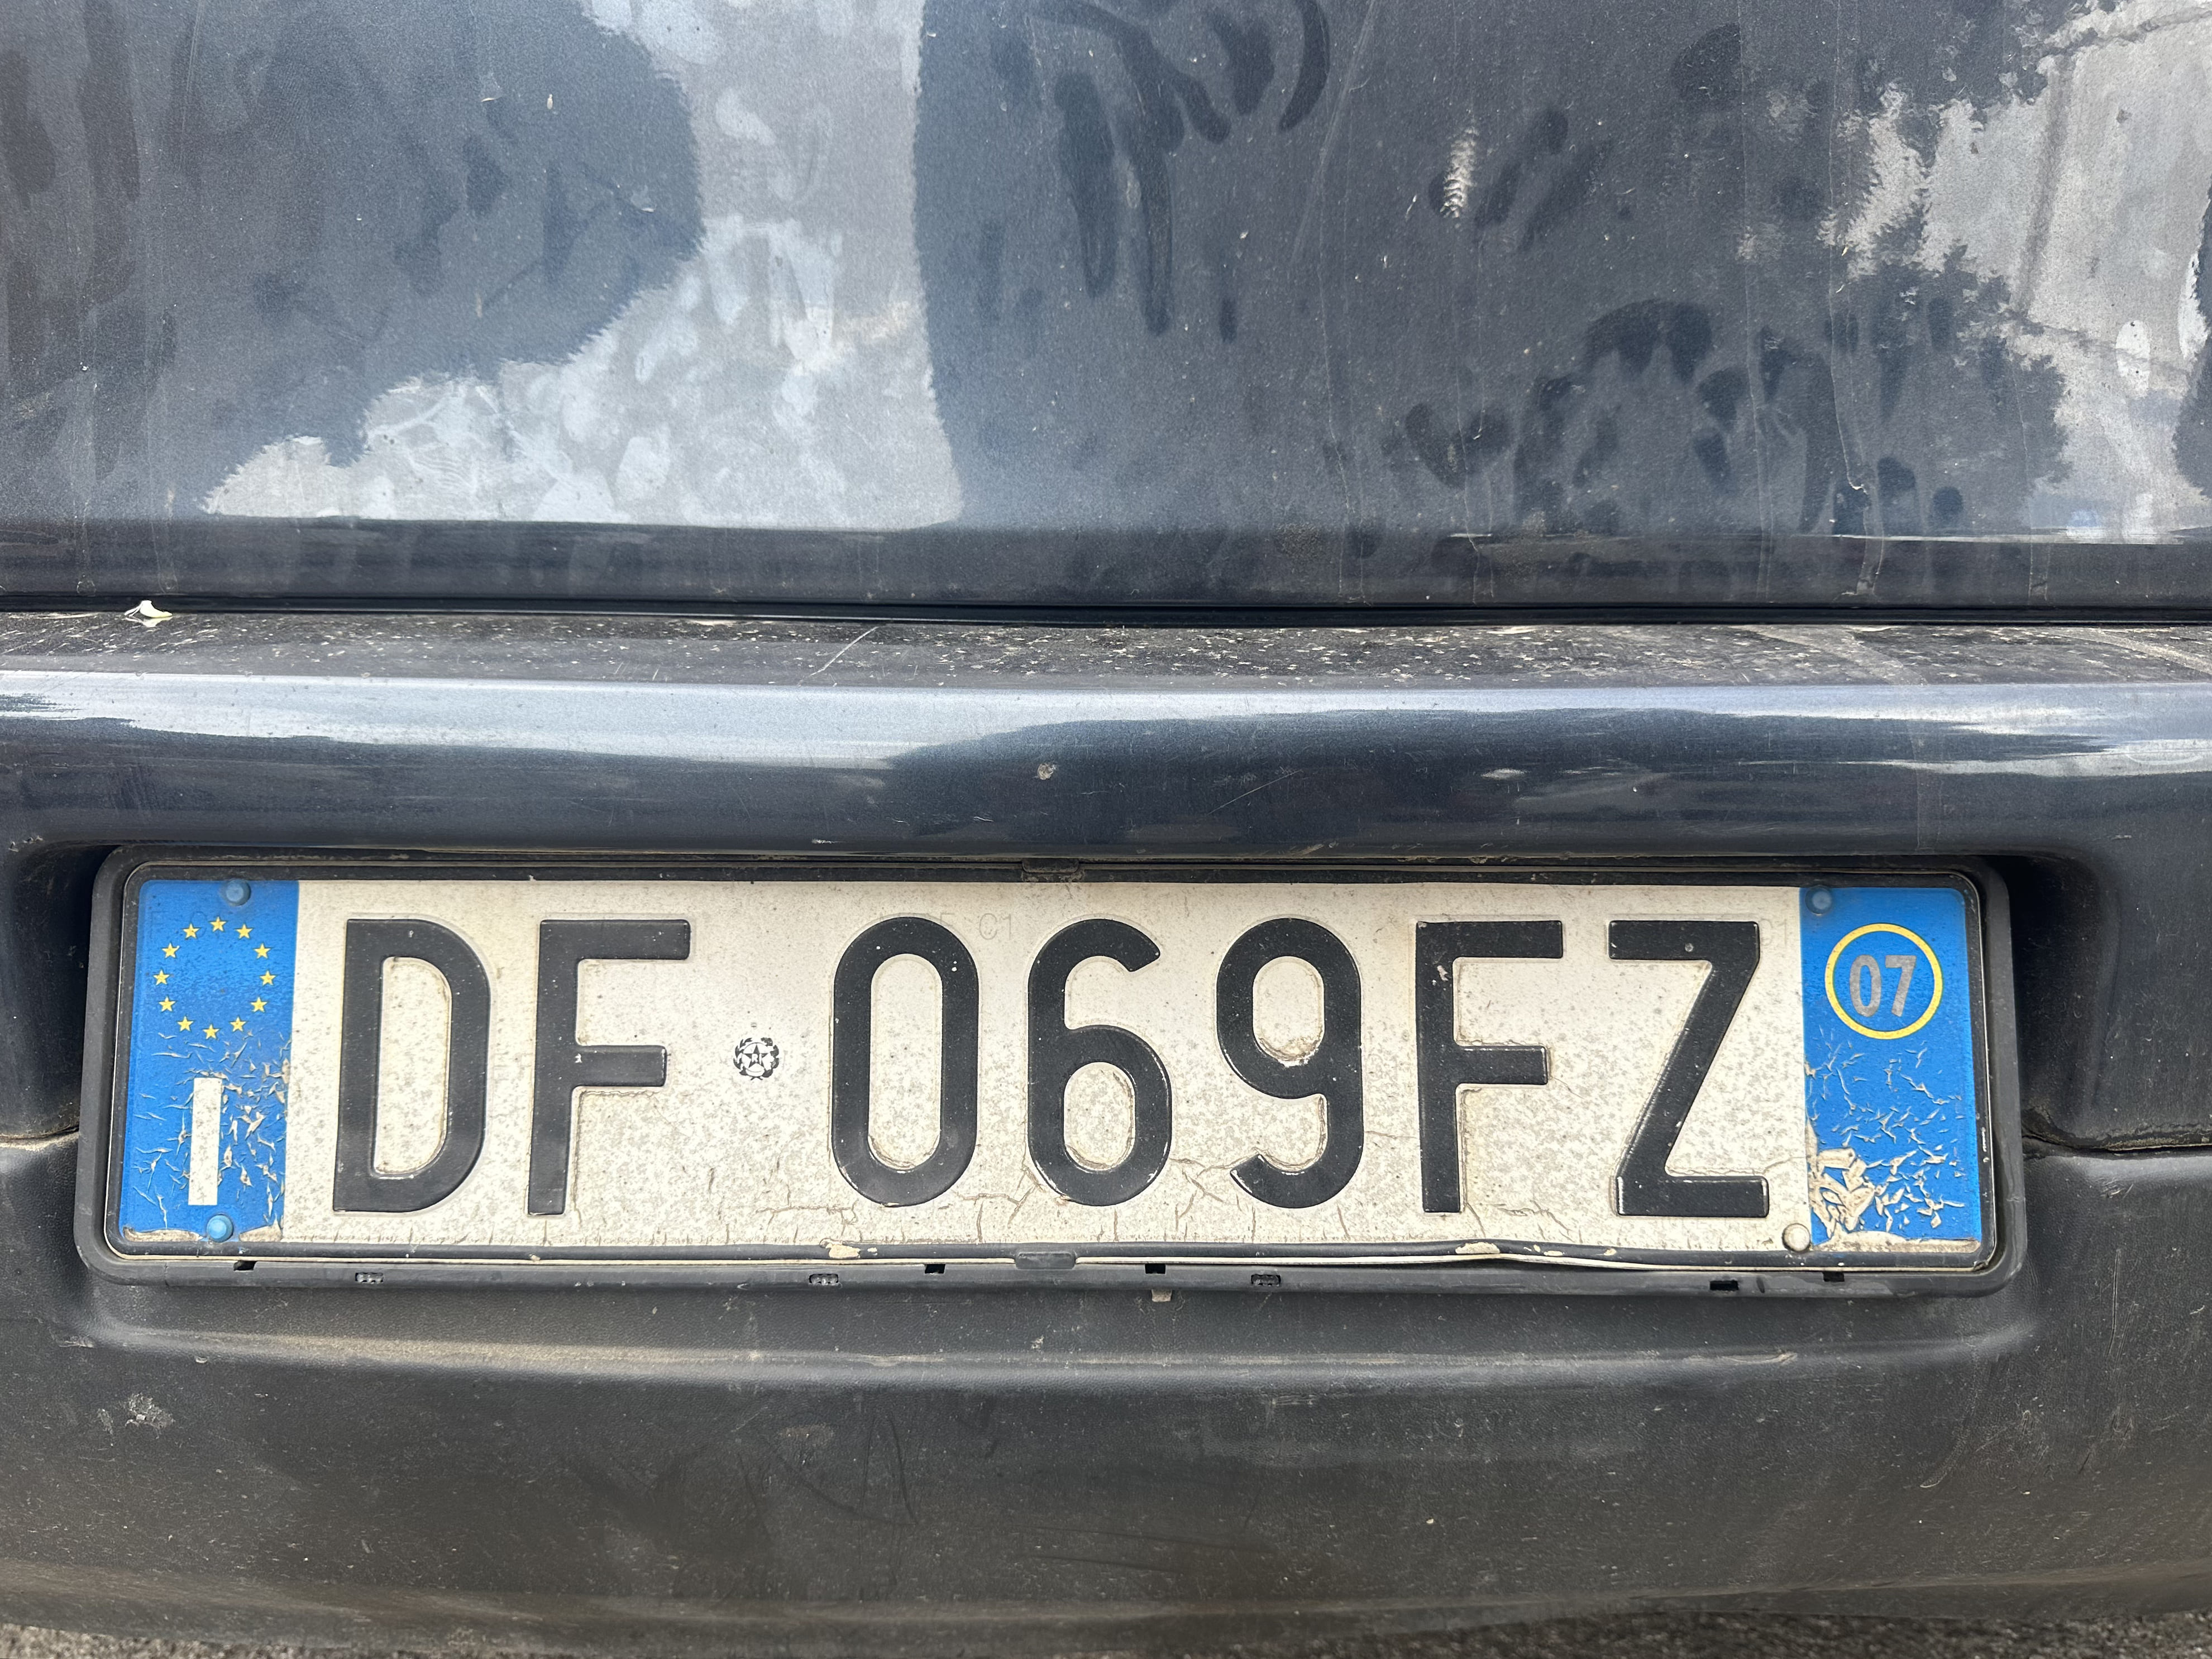license-plate: (103, 855, 2002, 1274)
